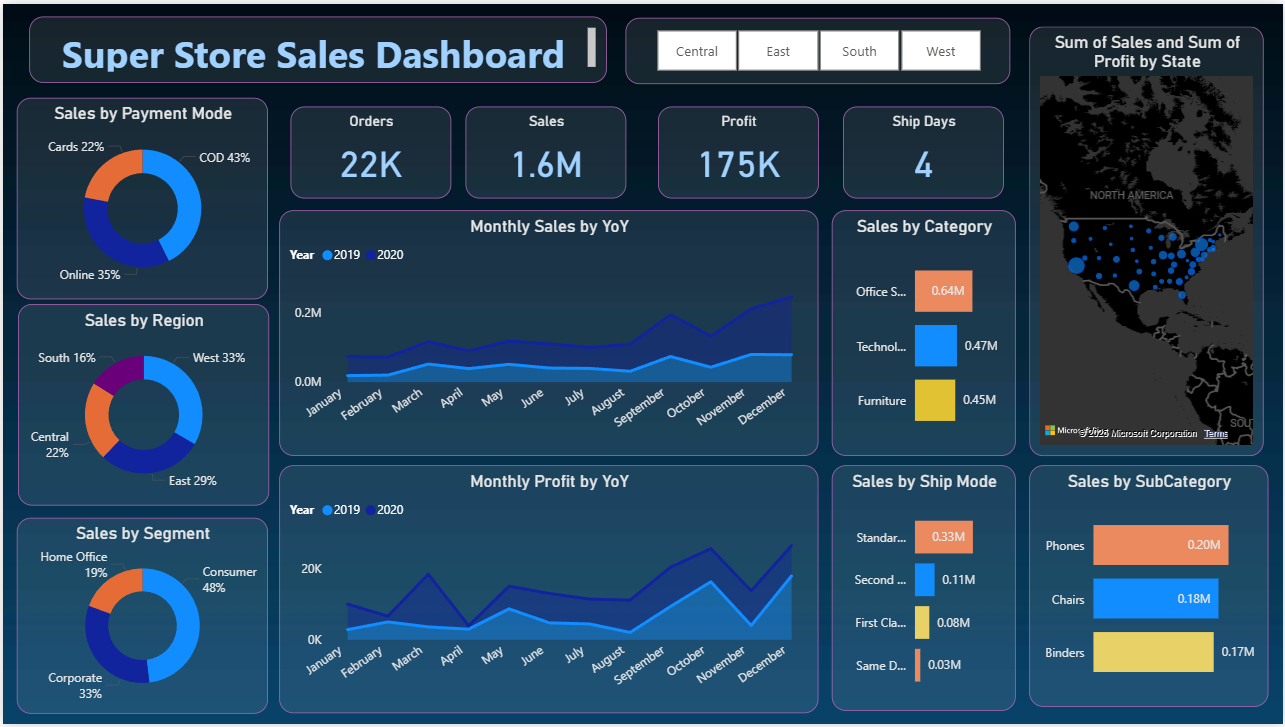

The dashboard page shown, as its layout file describes it:
{"tool":"powerbi","page":{"name":"Page 1","canvas":[1280,720],"ordinal":0},"visuals":[{"type":"clusteredBarChart","title":"Sales by Category","fields":{"Category":["SuperStore_Sales_Dataset.Category"],"Y":["Sum(SuperStore_Sales_Dataset.Sales)"]},"box":[828.8,205.8,183.9,245.6],"z":0},{"type":"clusteredBarChart","title":"Sales by SubCategory","fields":{"Category":["SuperStore_Sales_Dataset.Sub-Category"],"Y":["Sum(SuperStore_Sales_Dataset.Sales)"]},"box":[1026.7,460.9,238.9,241.3],"z":1000},{"type":"clusteredBarChart","title":"Sales by Ship Mode","fields":{"Category":["SuperStore_Sales_Dataset.Ship Mode"],"Y":["Sum(SuperStore_Sales_Dataset.Sales)"]},"box":[828.8,461.1,183.9,245.6],"z":2000},{"type":"stackedAreaChart","title":"Monthly Sales by YoY","fields":{"Category":["SuperStore_Sales_Dataset.Order Date.Variation.Date Hierarchy.Month","SuperStore_Sales_Dataset.Order Date.Variation.Date Hierarchy.Day"],"Y":["Sum(SuperStore_Sales_Dataset.Sales)"],"Series":["SuperStore_Sales_Dataset.Order Date.Variation.Date Hierarchy.Year"]},"box":[275.8,205.8,539.3,245.6],"z":3000},{"type":"stackedAreaChart","title":"Monthly Profit by YoY","fields":{"Category":["SuperStore_Sales_Dataset.Order Date.Variation.Date Hierarchy.Month","SuperStore_Sales_Dataset.Order Date.Variation.Date Hierarchy.Day"],"Series":["SuperStore_Sales_Dataset.Order Date.Variation.Date Hierarchy.Year"],"Y":["Sum(SuperStore_Sales_Dataset.Profit)"]},"box":[275.8,461.1,539.3,248.4],"z":4000},{"type":"map","fields":{"Category":["SuperStore_Sales_Dataset.State"],"Size":["Sum(SuperStore_Sales_Dataset.Sales)"]},"box":[1026.4,22,234.6,429.5],"z":5000},{"type":"donutChart","title":"Sales by Segment","fields":{"Category":["SuperStore_Sales_Dataset.Segment"],"Y":["Sum(SuperStore_Sales_Dataset.Sales)"]},"box":[13.7,513.2,251.1,196.2],"z":6000},{"type":"donutChart","title":"Sales by Payment Mode","fields":{"Category":["SuperStore_Sales_Dataset.Payment Mode"],"Y":["Sum(SuperStore_Sales_Dataset.Sales)"]},"box":[13.7,93.3,251.1,201.7],"z":7000},{"type":"slicer","fields":{"Values":["SuperStore_Sales_Dataset.Region"]},"box":[622.5,13.3,384.9,66.4],"z":8000},{"type":"card","title":"Sales","fields":{"Values":["Sum(SuperStore_Sales_Dataset.Sales)"]},"box":[462.1,102.5,160.5,91.7],"z":9000},{"type":"card","title":"Orders","fields":{"Values":["Sum(SuperStore_Sales_Dataset.Quantity)"]},"box":[287.1,102.5,160.5,91.7],"z":10000},{"type":"card","title":"Profit","fields":{"Values":["Sum(SuperStore_Sales_Dataset.Profit)"]},"box":[655.1,102.5,160.5,91.7],"z":11000},{"type":"card","title":"Ship Days","fields":{"Values":["Avg(SuperStore_Sales_Dataset.AvgDelivery)"]},"box":[839.7,102.5,160.5,91.7],"z":12000},{"type":"donutChart","title":"Sales by Region","fields":{"Category":["SuperStore_Sales_Dataset.Region"],"Y":["Sum(SuperStore_Sales_Dataset.Sales)"]},"box":[15.1,300.5,251.1,201.7],"z":13000},{"type":"textbox","box":[26.5,12.1,577.9,66.4],"z":14000}]}

Visuals, with their boxes in screenshot pixels (x1, y1, x2, y2), scaled from the page's 1280x720 canvas onto the 1285x727 screenshot:
"Sales by Category" clusteredBarChart: bbox=(832, 208, 1017, 456)
"Sales by SubCategory" clusteredBarChart: bbox=(1031, 465, 1271, 709)
"Sales by Ship Mode" clusteredBarChart: bbox=(832, 466, 1017, 714)
"Monthly Sales by YoY" stackedAreaChart: bbox=(277, 208, 818, 456)
"Monthly Profit by YoY" stackedAreaChart: bbox=(277, 466, 818, 716)
map - SuperStore_Sales_Dataset.State x Sum(SuperStore_Sales_Dataset.Sales): bbox=(1030, 22, 1266, 456)
"Sales by Segment" donutChart: bbox=(14, 518, 266, 716)
"Sales by Payment Mode" donutChart: bbox=(14, 94, 266, 298)
slicer - SuperStore_Sales_Dataset.Region: bbox=(625, 13, 1011, 80)
"Sales" card: bbox=(464, 103, 625, 196)
"Orders" card: bbox=(288, 103, 449, 196)
"Profit" card: bbox=(658, 103, 819, 196)
"Ship Days" card: bbox=(843, 103, 1004, 196)
"Sales by Region" donutChart: bbox=(15, 303, 267, 507)
textbox: bbox=(27, 12, 607, 79)
